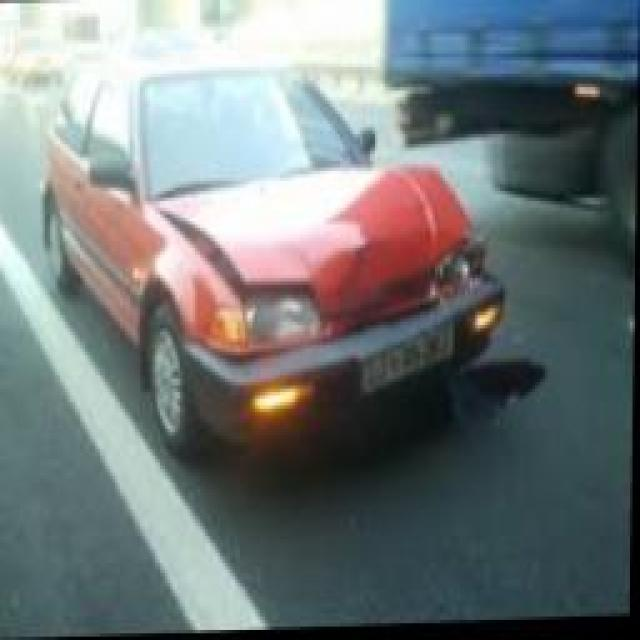Bonnet: (149, 155, 473, 321)
Bumper: (184, 281, 561, 447)
Light: (426, 224, 490, 299)
